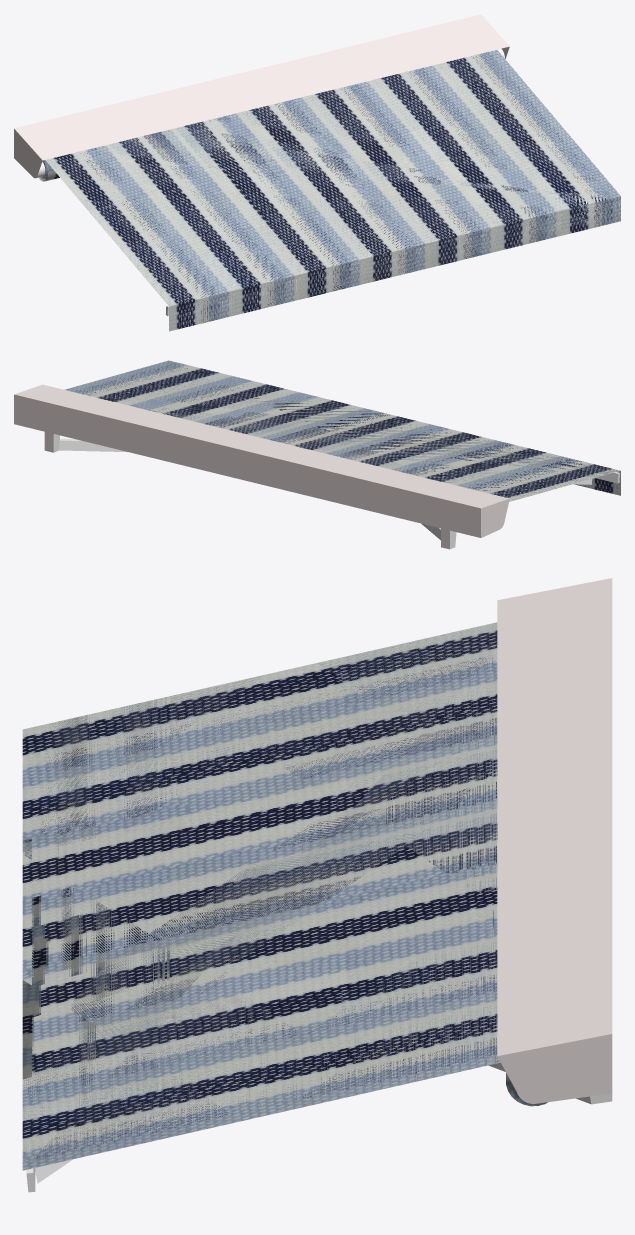
File: toldo.glb
The picture shows the model from 3 angles, top to bottom: view 1: azimuth 30°, elevation 25°; view 2: azimuth 150°, elevation 25°; view 3: azimuth 270°, elevation 25°; orthographic projection. The views are drawn at different scales.
Parts seen in each view (by area): view 1: Object_3, Object_2; view 2: Object_3, Object_2, Object_5; view 3: Object_3, Object_2, Object_5.
Part boxes in pixels (x1,y1,x2,y2): Object_3: (39, 50, 620, 331); Object_2: (14, 14, 509, 178); Object_3: (64, 360, 620, 501); Object_2: (14, 384, 509, 549); Object_5: (53, 434, 619, 549); Object_3: (22, 622, 547, 1170); Object_2: (497, 578, 612, 1103); Object_5: (26, 1062, 612, 1192).
Bounding box in the file's own units: 2.23 × 0.4433 × 1.22.
4 materials, 1 textured.
